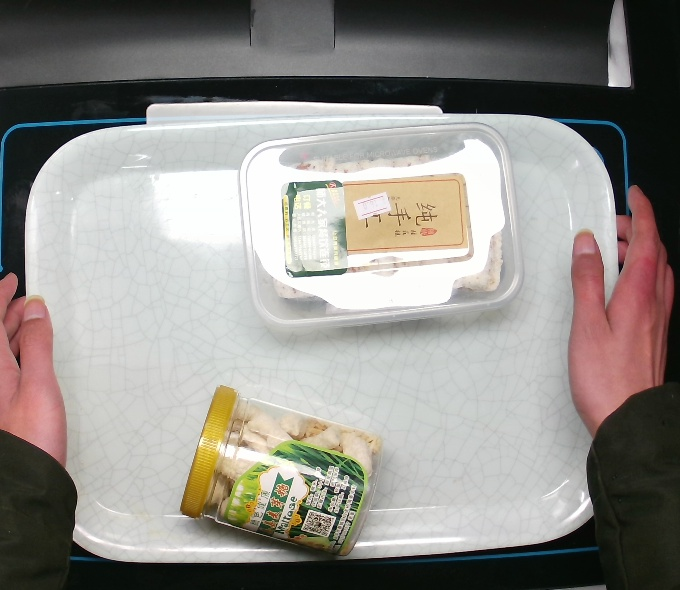wcq-GuiHuaGao: (234, 119, 529, 334)
wcq-MaiYaTang: (169, 379, 387, 566)
